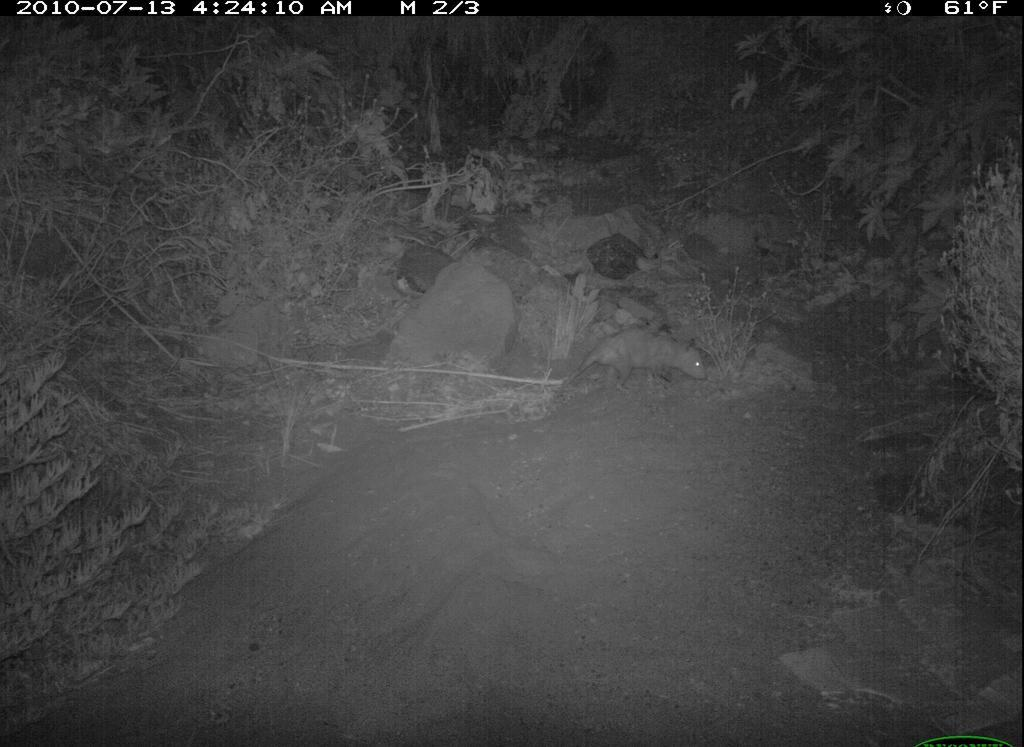opossum: (552, 327, 716, 408)
